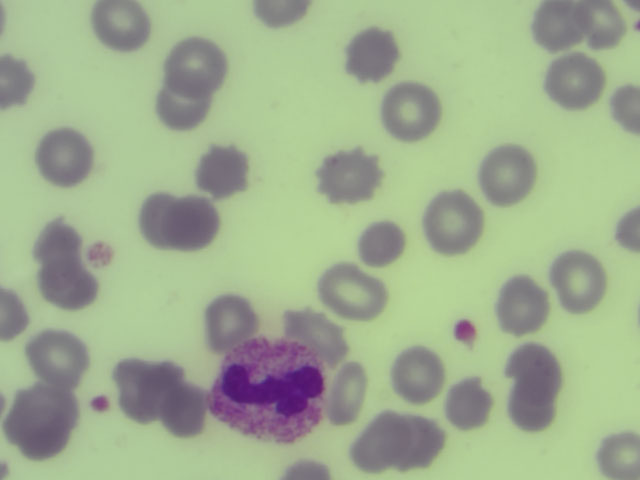Platelets: (456, 319, 473, 340), (92, 397, 106, 411)
RBC: (502, 343, 564, 429), (5, 389, 73, 456), (418, 190, 485, 254), (478, 143, 544, 206), (320, 261, 392, 318), (155, 364, 210, 435), (550, 250, 611, 312), (284, 297, 346, 358), (33, 128, 98, 186), (379, 81, 442, 140), (164, 34, 230, 89), (111, 356, 166, 422), (323, 353, 370, 426), (317, 151, 379, 206), (156, 72, 208, 136), (546, 51, 604, 108), (392, 344, 445, 404), (497, 274, 549, 334), (160, 204, 219, 253), (351, 218, 410, 267), (200, 295, 259, 344), (26, 329, 85, 378), (195, 140, 254, 189), (41, 259, 100, 308), (30, 219, 89, 268), (344, 28, 403, 77), (349, 421, 408, 470), (388, 415, 447, 464), (90, 1, 149, 49), (445, 376, 494, 433), (532, 1, 584, 53), (594, 428, 640, 480), (582, 1, 627, 50), (1, 55, 39, 109), (604, 78, 640, 134), (252, 1, 309, 31), (1, 289, 32, 340), (615, 196, 640, 256), (278, 457, 331, 480)
WBC: (208, 342, 330, 447)
